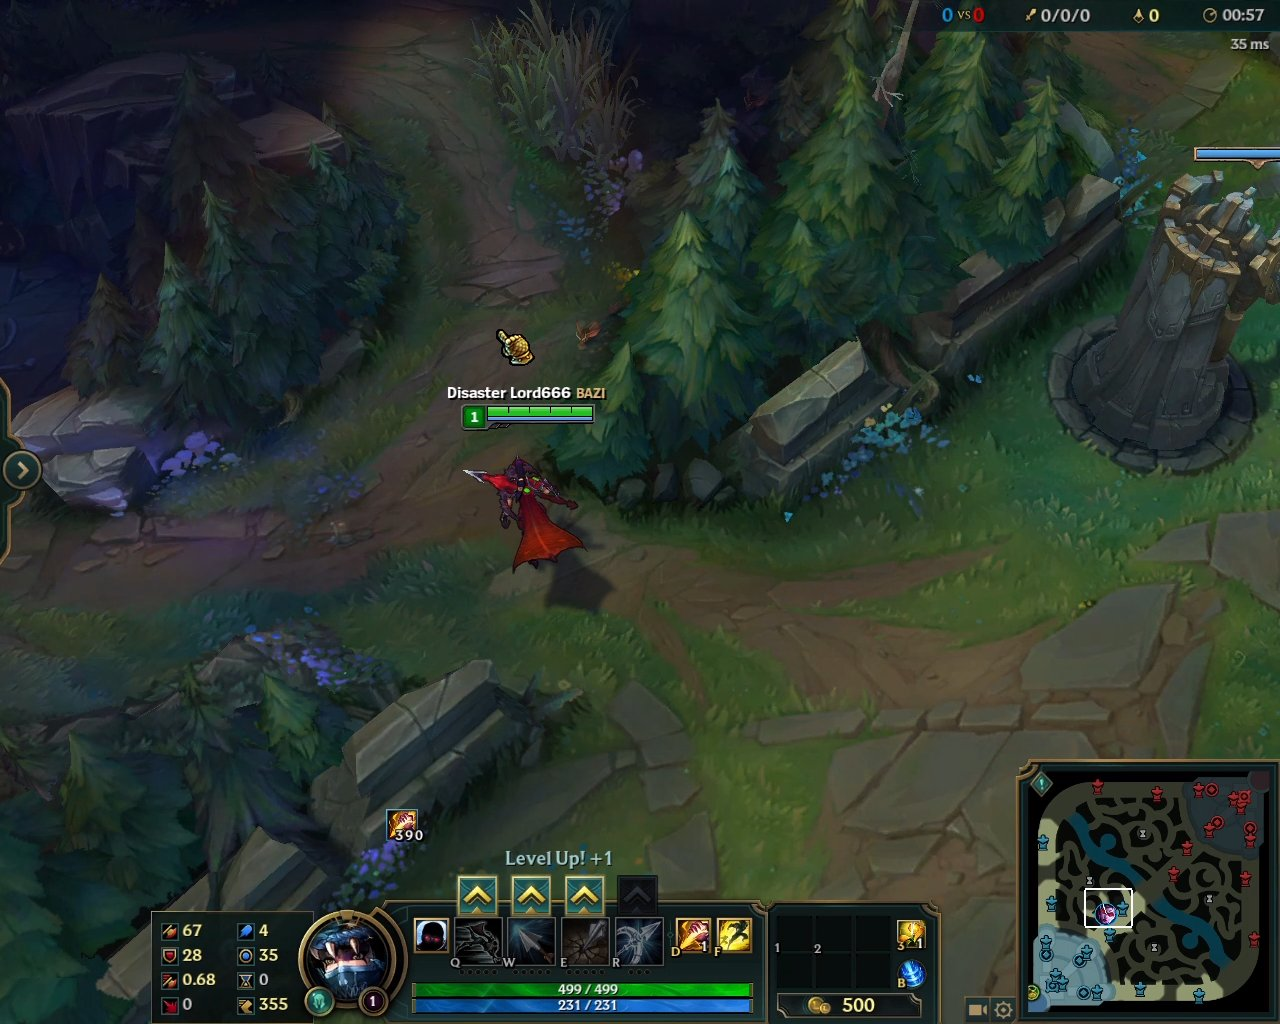Vayne: (462, 452, 594, 576)
